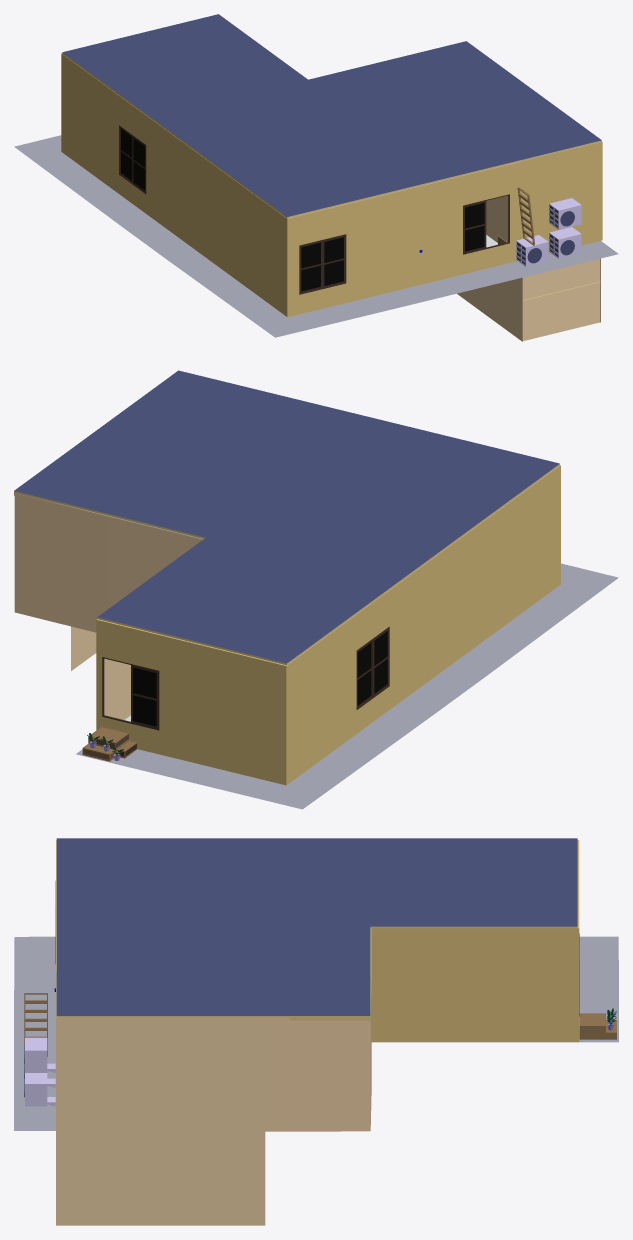
Rendered from MapLevel02.fbx.
3 views of the same model, one above another, from view 1: azimuth 30°, elevation 25°; view 2: azimuth 150°, elevation 25°; view 3: azimuth 270°, elevation 25° (orthographic). The views are drawn at different scales.
Visible parts, largest first — view 1: Ceiling, FloorWall.003, CameraBlocker, FloorWall, FloorWall.002, Window.003, Window.002, GlassWindow, AirConditioner.001, AirConditioner.002, AirConditioner.004, StairSteel (+1 smaller); view 2: Ceiling, CameraBlocker, FloorWall.001, FloorWall, FloorWall.002, Window.001, GlassWindow, Window.004, FloorWall.003, Cube.001; view 3: FloorWall, Ceiling, FloorWall.003, FloorWall.001, AirConditioner.002, AirConditioner.001, FloorWall.002, StairSteel, Cube.001.
Part boxes in pixels (<box>): Ceiling: <box>62,14,601,218</box>; FloorWall.003: <box>275,142,618,337</box>; CameraBlocker: <box>61,53,287,316</box>; FloorWall: <box>61,53,602,341</box>; FloorWall.002: <box>14,146,287,337</box>; Window.003: <box>299,234,346,294</box>; Window.002: <box>463,194,509,254</box>; GlassWindow: <box>121,129,144,190</box>; AirConditioner.001: <box>549,227,581,258</box>; AirConditioner.002: <box>549,198,581,229</box>; AirConditioner.004: <box>516,235,548,266</box>; StairSteel: <box>517,187,534,245</box>; Ceiling: <box>14,370,559,665</box>; CameraBlocker: <box>286,465,560,785</box>; FloorWall.001: <box>76,620,302,809</box>; FloorWall: <box>14,465,560,721</box>; FloorWall.002: <box>286,577,618,809</box>; Window.001: <box>102,657,159,730</box>; GlassWindow: <box>357,631,387,705</box>; Window.004: <box>356,626,389,709</box>; FloorWall.003: <box>561,563,617,584</box>; Cube.001: <box>88,726,129,749</box>; FloorWall: <box>54,840,579,1225</box>; Ceiling: <box>56,838,577,1020</box>; FloorWall.003: <box>14,937,55,1130</box>; FloorWall.001: <box>579,937,618,1042</box>; AirConditioner.002: <box>24,1037,55,1072</box>; AirConditioner.001: <box>24,1073,55,1106</box>; FloorWall.002: <box>15,936,618,953</box>; StairSteel: <box>24,993,47,1056</box>; Cube.001: <box>579,1013,605,1032</box>.
Size of the model in its own units: 1105 by 555 by 1444.
5 materials, 1 textured.
